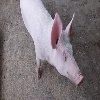heo: (32, 12, 85, 87)
